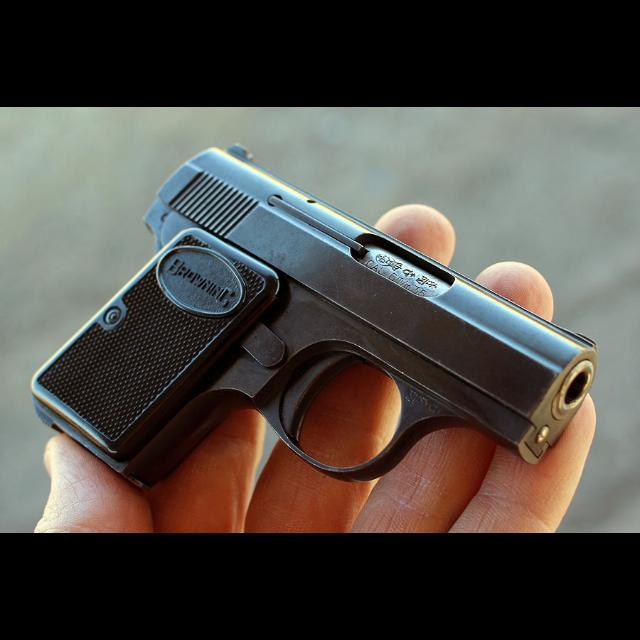handgun: (24, 138, 606, 500)
